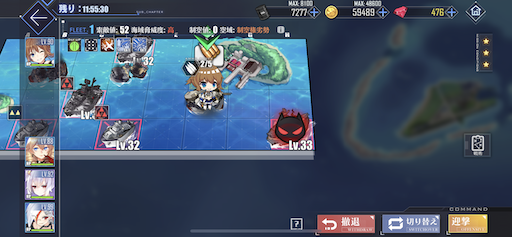boss: (262, 108, 312, 151)
lv3: (94, 105, 140, 151), (60, 75, 102, 116)
